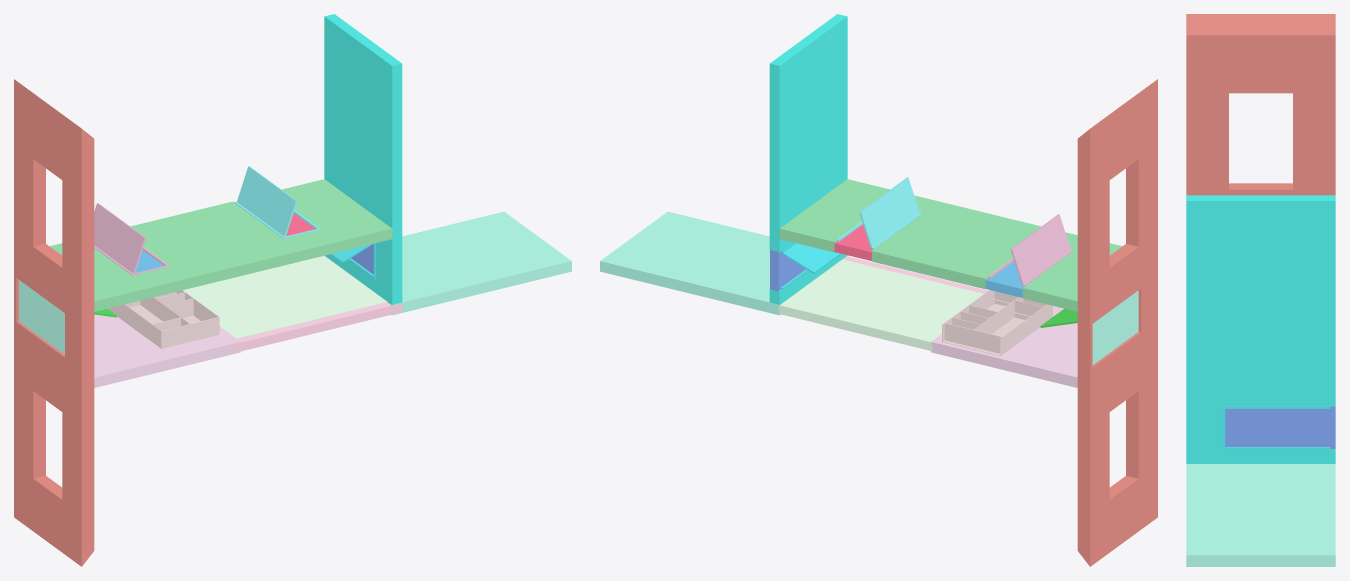
File: space2.gltf
The picture shows the model from 3 angles, left to right: view 1: azimuth 30°, elevation 25°; view 2: azimuth 150°, elevation 25°; view 3: azimuth 270°, elevation 25°; orthographic projection. The views are drawn at different scales.
Size of the model in its own units: 585 by 500 by 140.
